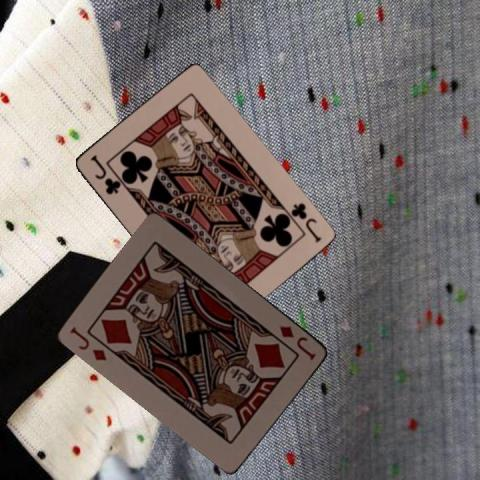Jc: (287, 199, 323, 245), (87, 152, 121, 196)
Jd: (277, 322, 318, 362), (66, 324, 108, 362)
